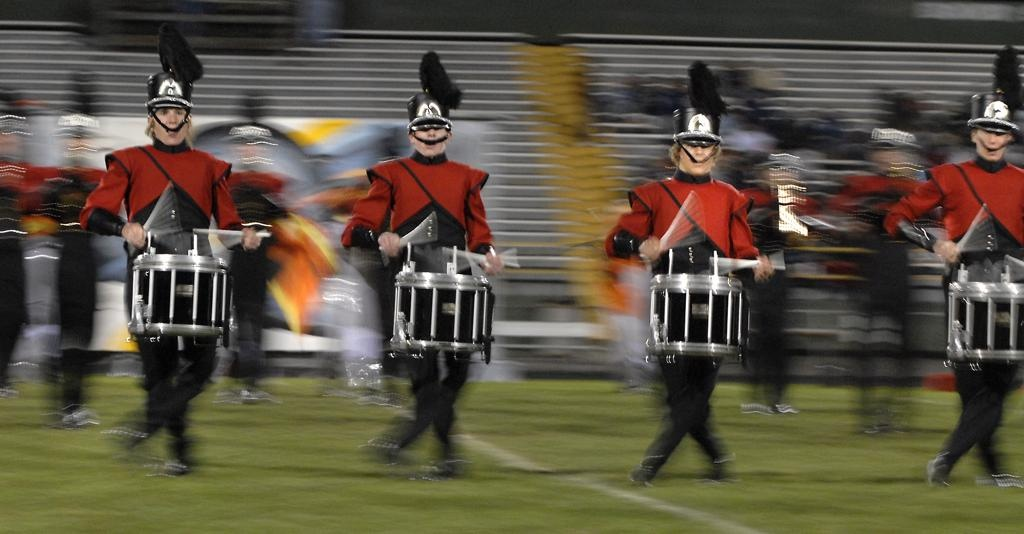human_face: (680, 131, 714, 175), (414, 115, 446, 157), (976, 119, 1006, 161), (154, 108, 186, 146)
